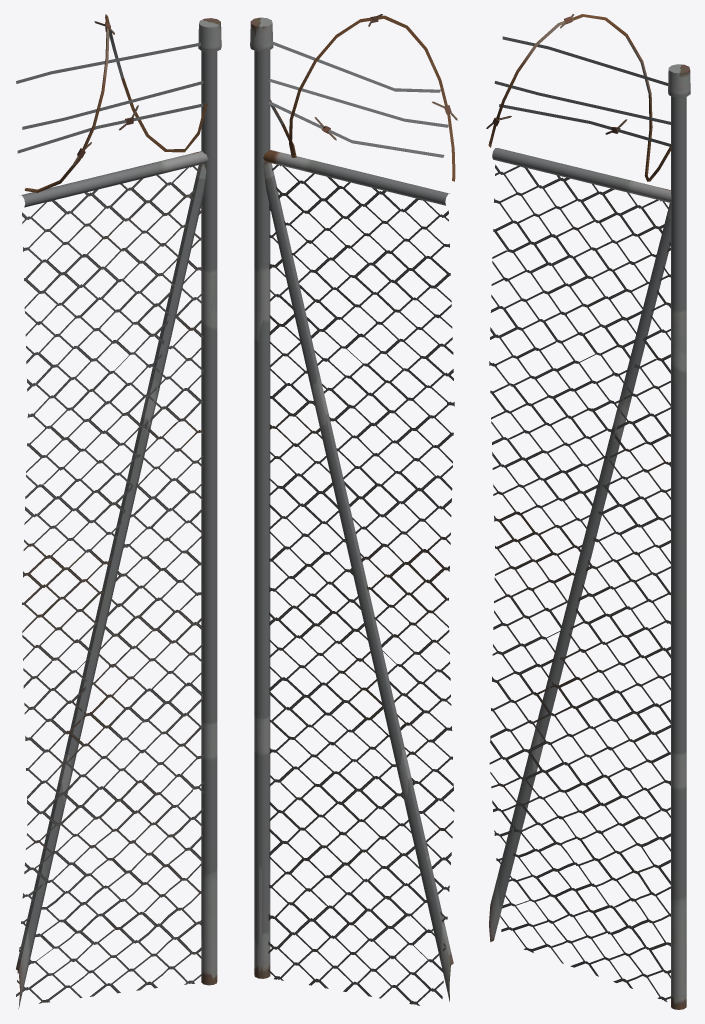
3 renders of one model, left to right at view 1: azimuth 30°, elevation 25°; view 2: azimuth 150°, elevation 25°; view 3: azimuth 330°, elevation 25°, orthographic. The views are drawn at different scales.
Visible parts, largest first — view 1: body0_model0_lod0_mesh0, body0_model0_lod0_mesh1; view 2: body0_model0_lod0_mesh0, body0_model0_lod0_mesh1; view 3: body0_model0_lod0_mesh0, body0_model0_lod0_mesh1.
Part boxes in pixels (left/top/right/bottom): body0_model0_lod0_mesh0: left=16, top=14, right=221, bottom=1008; body0_model0_lod0_mesh1: left=16, top=166, right=203, bottom=1003; body0_model0_lod0_mesh0: left=250, top=14, right=457, bottom=1001; body0_model0_lod0_mesh1: left=268, top=164, right=454, bottom=1005; body0_model0_lod0_mesh0: left=486, top=14, right=690, bottom=1009; body0_model0_lod0_mesh1: left=489, top=164, right=670, bottom=1001.
Size of the model in its own units: 65.53 by 306 by 34.58.
2 materials, 2 textured.
